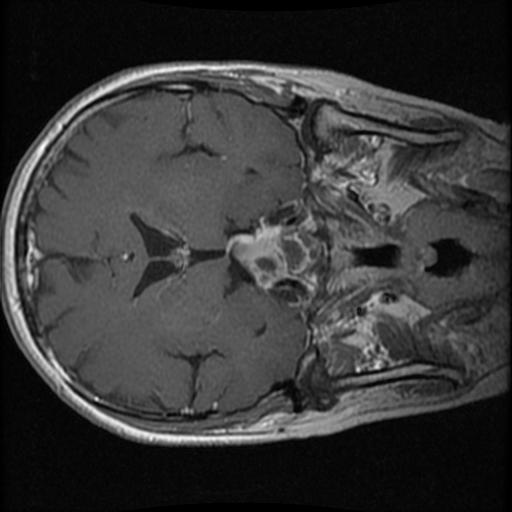pituitary tumour: (225, 222, 323, 291)
